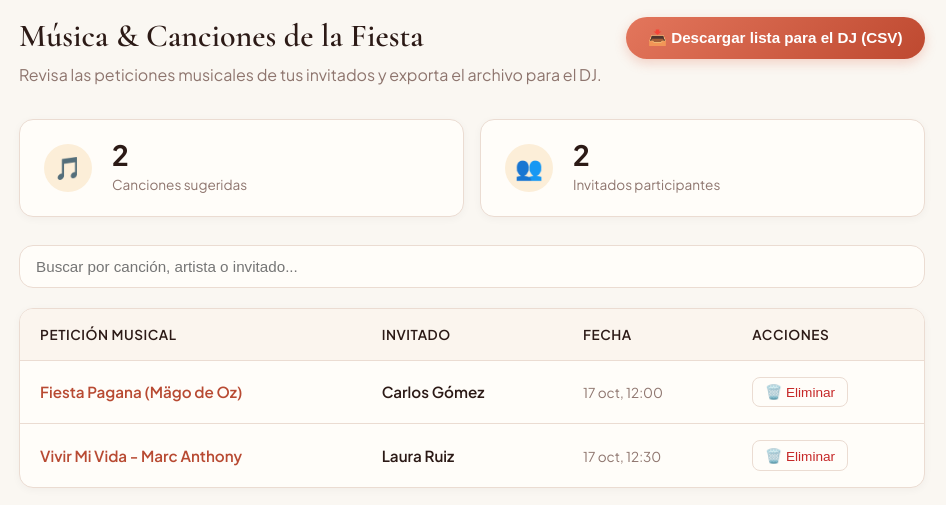
Test case: Feature: Gestión y Exportación de Canciones (AdminSongSuggestionsPage) › permite filtrar canciones mediante el buscador en tiempo real
expect the text "Fiesta Pagana (Mägo de Oz)" is shown: met, box [40,382,242,401]
expect the text "Vivir Mi Vida - Marc Anthony" is shown: met, box [40,446,242,465]
Type "Marc Anthony" into the field with placeholder "Buscar por canción, artista o invitado...". click: {"x": 472, "y": 267}
box: [19,245,925,288]
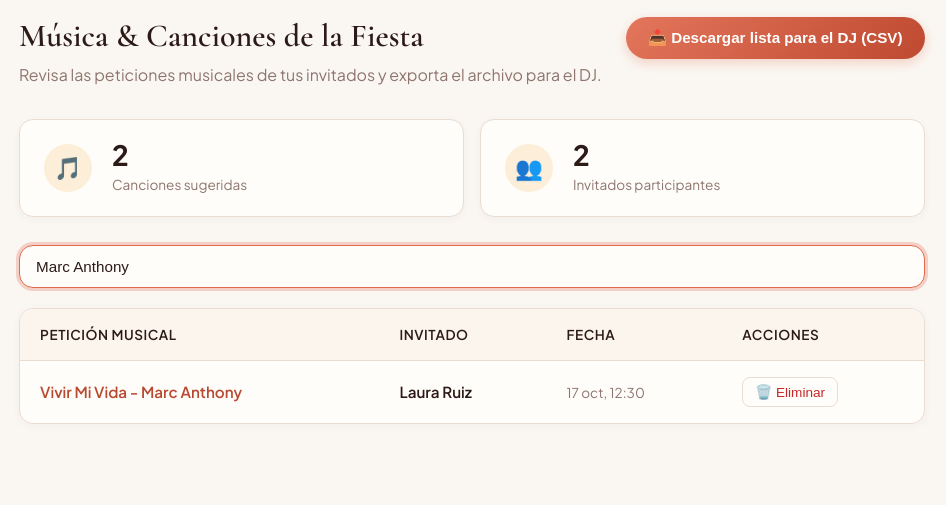
expect the text "Vivir Mi Vida - Marc Anthony" is shown: met, box [40,382,242,401]
expect the text "Fiesta Pagana (Mägo de Oz)" is gone: met
